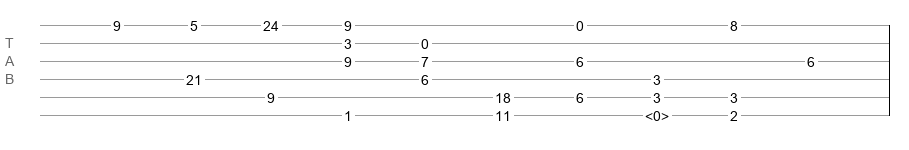0: (421, 36, 429, 46), (576, 18, 584, 28)
1: (344, 108, 352, 118)
11: (495, 108, 511, 118)
18: (495, 90, 511, 100)
2: (730, 108, 738, 118)
21: (186, 72, 202, 82)
24: (263, 18, 279, 28)
3: (344, 36, 352, 46), (653, 72, 661, 82), (653, 90, 661, 100), (730, 90, 738, 100)
5: (190, 18, 198, 28)
6: (421, 72, 429, 82), (576, 54, 584, 64), (576, 90, 584, 100), (807, 54, 815, 64)
7: (421, 54, 429, 64)
8: (730, 18, 738, 28)
9: (113, 18, 121, 28), (267, 90, 275, 100), (344, 54, 352, 64), (344, 18, 352, 28)
harmonic: (645, 108, 669, 118)
